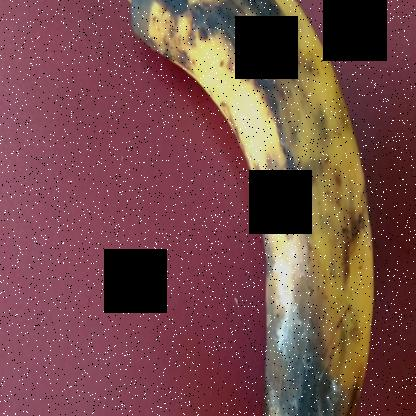rotten: (120, 0, 385, 415)
